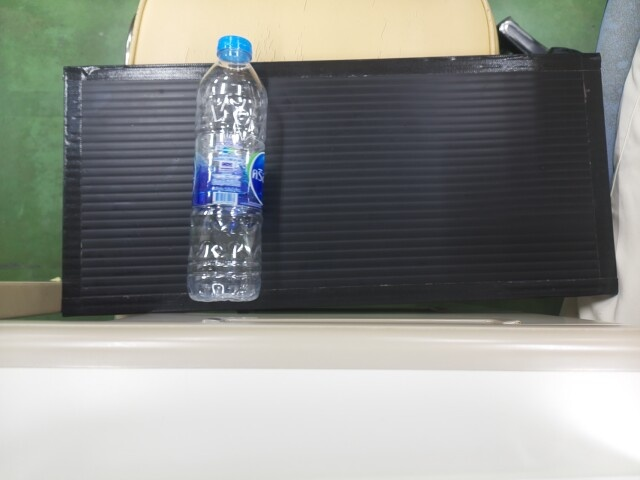plastic_bottle: (191, 35, 263, 300)
